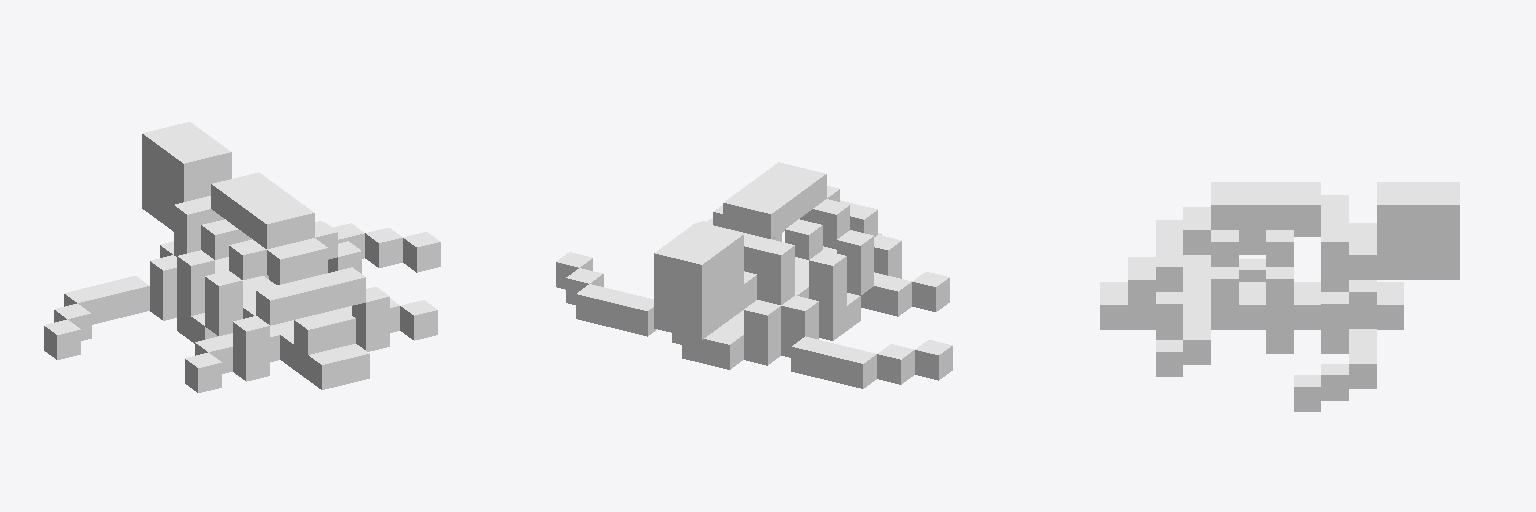
The model's file is Bones-0.obj.
The picture shows the model from 3 angles: view 1: azimuth 30°, elevation 25°; view 2: azimuth 150°, elevation 25°; view 3: azimuth 270°, elevation 25°; orthographic projection.
Parts seen in each view (by area): view 1: object 1; view 2: object 1; view 3: object 1.
Part boxes in pixels (x1,y1,x2,y2): object 1: (44,122,440,392); object 1: (556,162,952,388); object 1: (1100,182,1459,411).
Size of the model in its own units: 1.6 by 0.5 by 1.3.